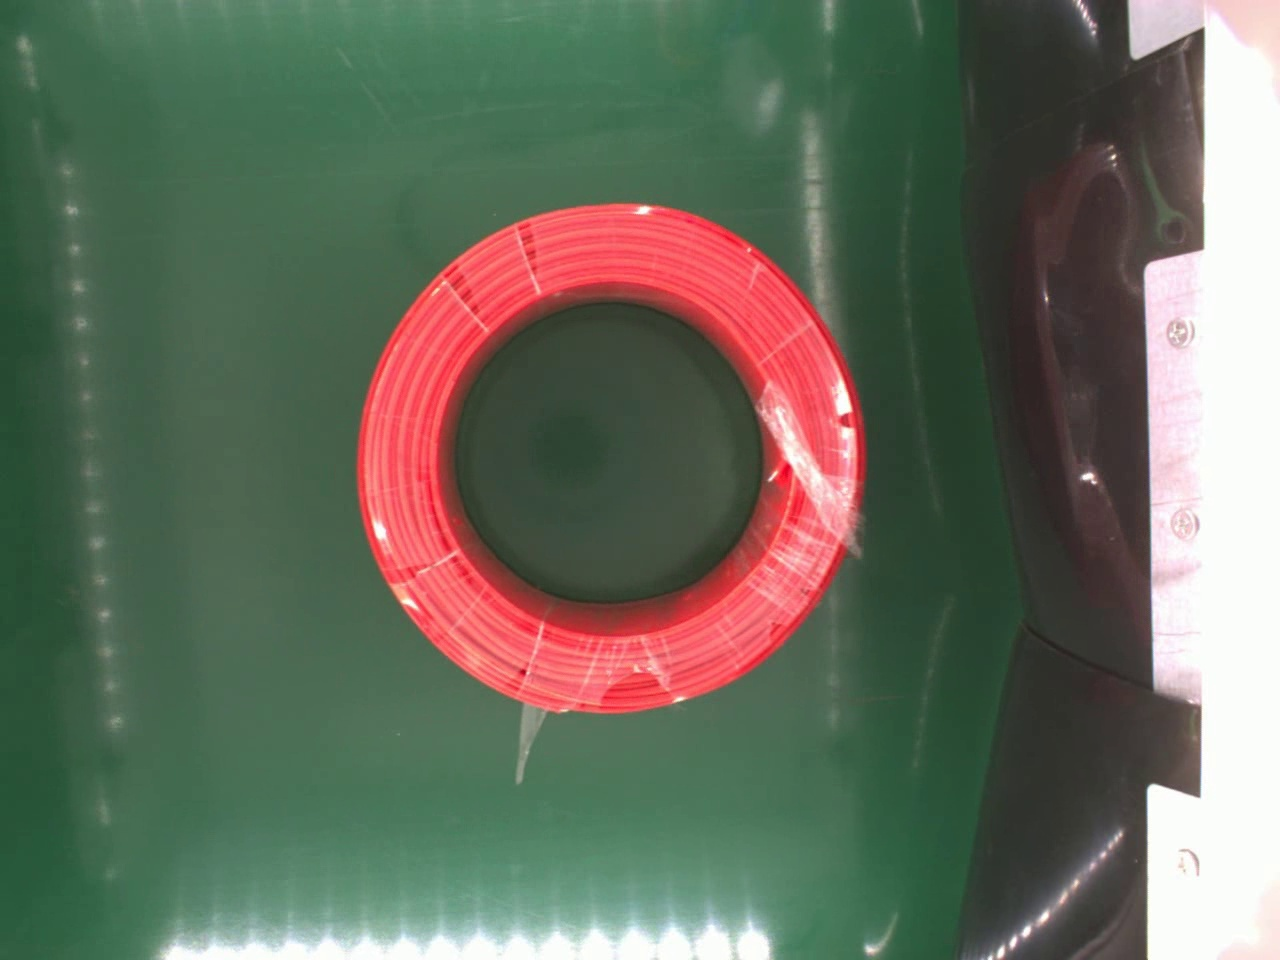red: (350, 198, 868, 722)
